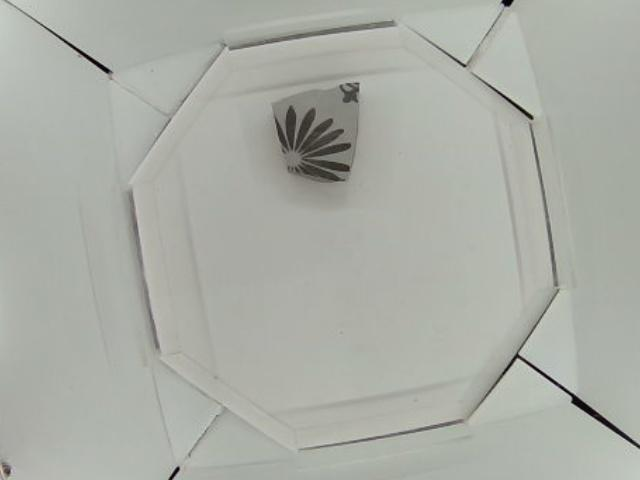China: (271, 82, 360, 182)
